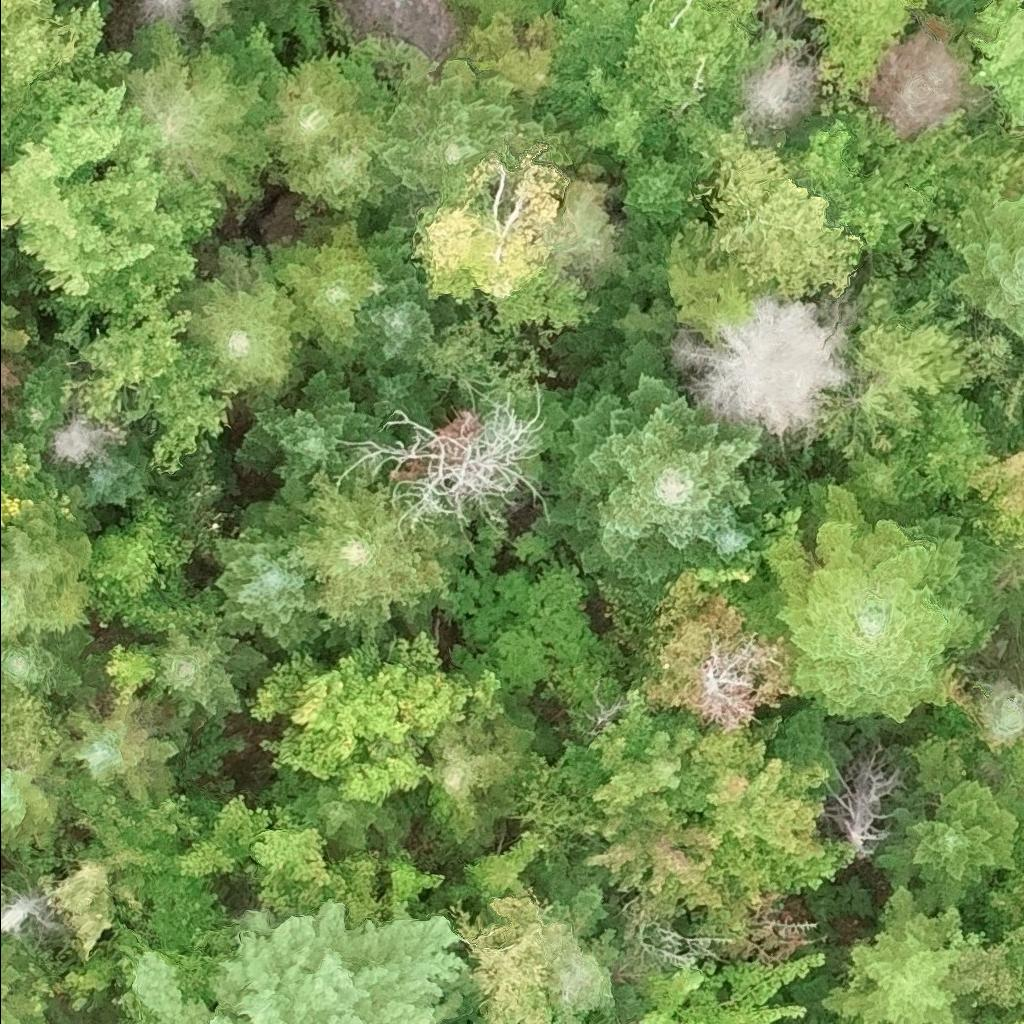crown: (581, 684, 860, 940), (533, 329, 792, 603), (746, 471, 1012, 723), (0, 73, 224, 309), (245, 625, 504, 804), (134, 895, 483, 1023), (550, 0, 804, 161), (245, 470, 469, 648), (329, 376, 548, 543), (124, 10, 284, 202), (437, 526, 603, 703), (166, 233, 330, 411), (815, 275, 976, 455), (709, 120, 866, 298), (785, 104, 972, 251), (673, 295, 852, 446), (411, 156, 564, 304), (868, 773, 1023, 919), (425, 692, 563, 855), (175, 792, 348, 922), (366, 70, 539, 193), (819, 883, 969, 1023), (81, 495, 222, 633), (233, 366, 399, 483), (266, 210, 381, 370), (447, 895, 581, 1023), (38, 848, 187, 960), (17, 0, 134, 142), (123, 332, 240, 471), (78, 285, 192, 426), (0, 482, 101, 632), (352, 225, 456, 370), (801, 0, 932, 112), (214, 523, 323, 657), (281, 106, 400, 226), (0, 0, 84, 170), (635, 949, 825, 1023), (863, 31, 990, 141), (944, 180, 1023, 346), (61, 693, 182, 800), (273, 766, 415, 854), (148, 620, 272, 718), (820, 739, 901, 859), (266, 51, 364, 150), (763, 693, 856, 789), (0, 672, 75, 783), (730, 49, 820, 141), (968, 0, 1023, 132), (0, 628, 93, 704), (838, 442, 926, 521), (501, 109, 596, 179), (354, 358, 445, 429), (620, 149, 700, 227), (0, 559, 65, 654), (71, 433, 154, 507), (14, 338, 72, 434), (968, 449, 1023, 550), (0, 759, 58, 854), (375, 850, 449, 924), (324, 854, 384, 929), (46, 412, 124, 469), (0, 941, 48, 1023), (54, 955, 117, 1012), (0, 887, 69, 939), (703, 512, 765, 569), (107, 637, 158, 705), (980, 861, 1023, 922), (0, 349, 30, 432), (0, 296, 33, 357), (130, 0, 190, 30), (187, 0, 223, 34), (1009, 975, 1023, 1005), (0, 429, 9, 464), (1013, 954, 1023, 963), (1013, 1019, 1023, 1023), (0, 469, 2, 484), (324, 0, 338, 1), (1021, 1015, 1023, 1020)
